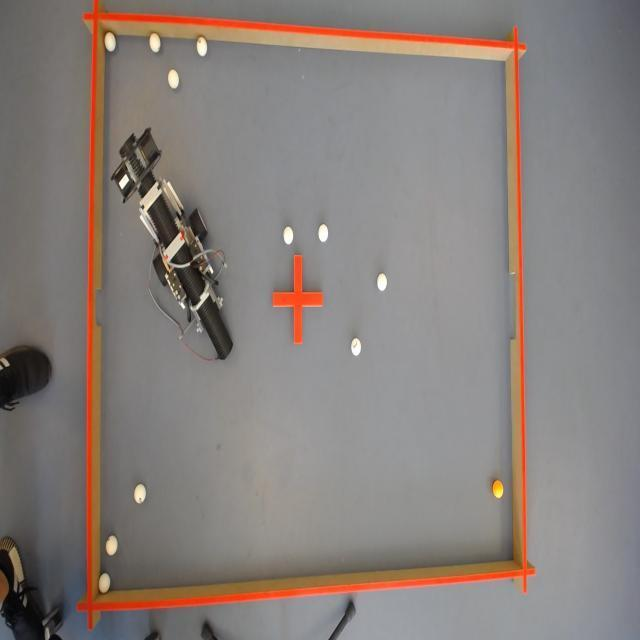orange: (492, 475, 504, 500)
robot: (109, 130, 233, 360)
white: (106, 534, 119, 556), (148, 34, 162, 54), (348, 336, 362, 356), (282, 224, 294, 246), (98, 572, 110, 594), (195, 36, 207, 58), (134, 483, 146, 505), (316, 222, 328, 243), (102, 34, 116, 52), (168, 66, 178, 89), (376, 272, 388, 290)
